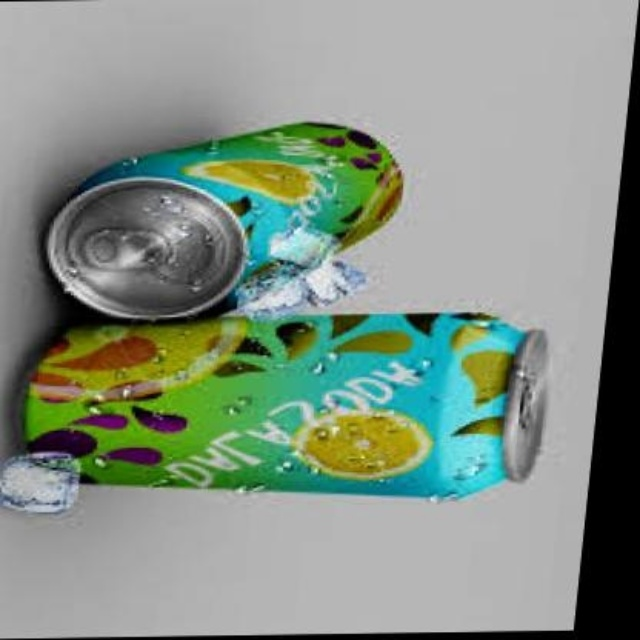trash: (25, 312, 542, 497), (46, 123, 402, 318)
